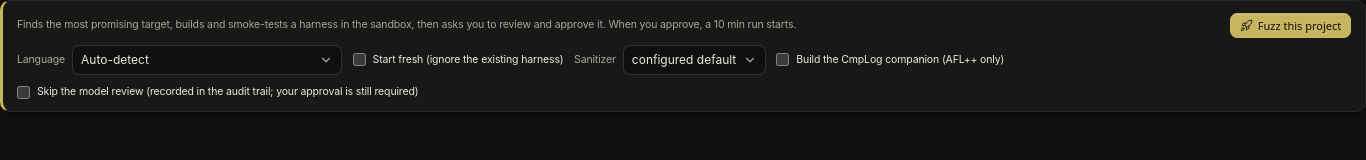
Test: shows a preparation failure
This screenshot has width=1366, height=160.
Click the button "Fuzz this project".
click(1290, 25)  # box [1230,13,1351,38]
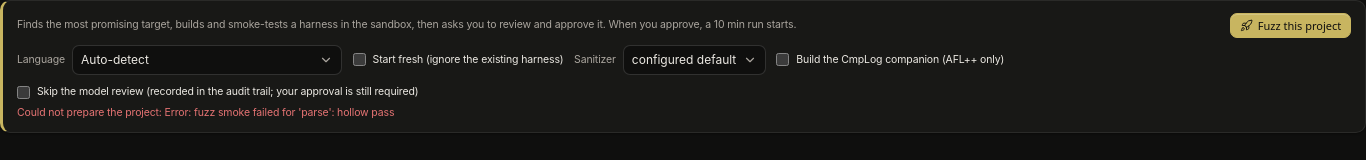
Result: the text "hollow pass" is shown at [17,106,394,119]
